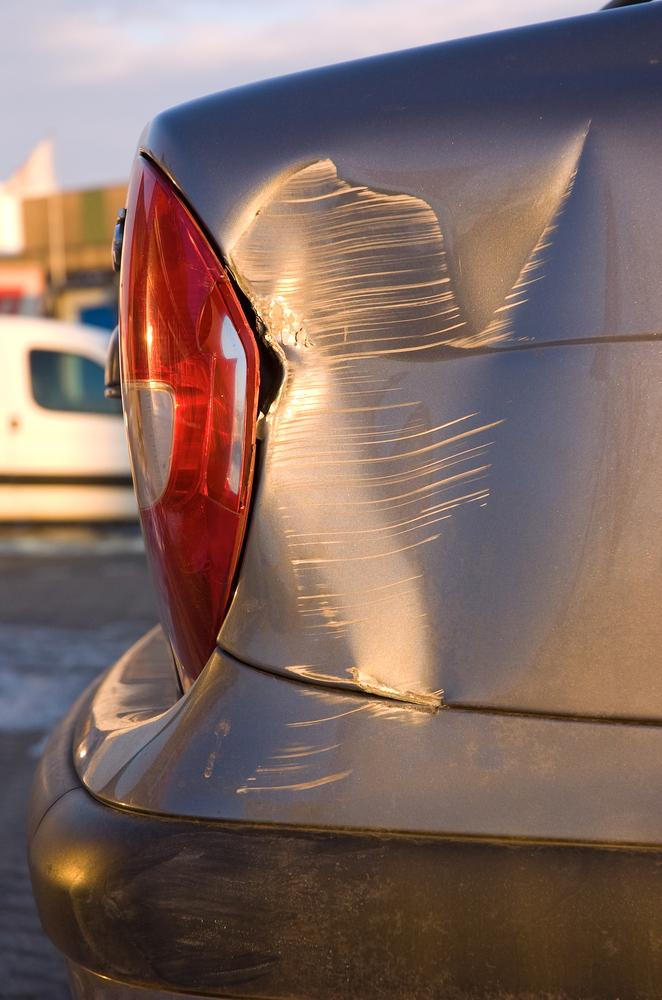dent: (223, 122, 622, 708)
lamp broken: (119, 156, 265, 701)
scratch: (237, 689, 438, 795), (286, 564, 370, 688)
